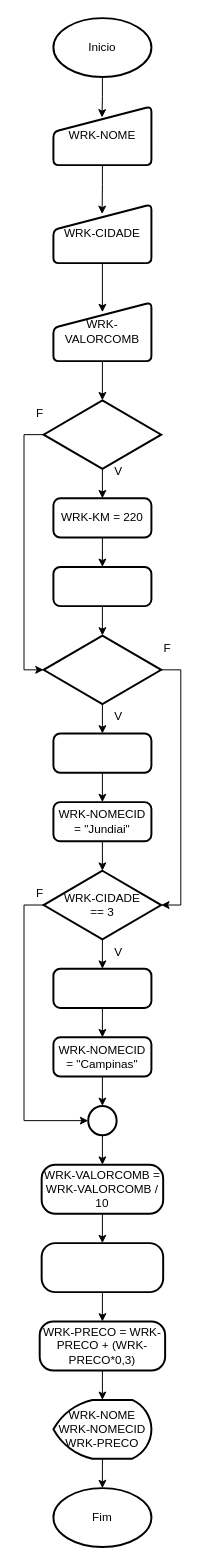
Image size: 206x1564. Some labels were removed from this diagram. The shapes that lost their labels are listed below. From the top down, each one's centre as x and y in pixels, then its label:
(102,434): WRK-CIDADE == 1
(102,586): WRK-NOMECID = "Piracicaba"
(102,669): WRK-CIDADE == 2
(102,752): WRK-KM = 120
(102,987): WRK-KM = 180
(102,1267): WRK-PRECO = WRK-VALORCOMB * WRK-KM
